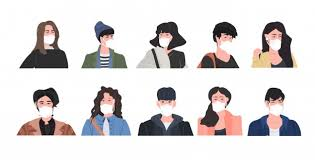masked: (207, 16, 242, 55), (32, 18, 66, 52), (90, 85, 126, 117), (151, 20, 183, 55), (258, 21, 289, 55), (90, 20, 121, 52), (204, 87, 236, 115), (261, 83, 286, 118), (30, 89, 59, 119), (152, 84, 179, 115)
